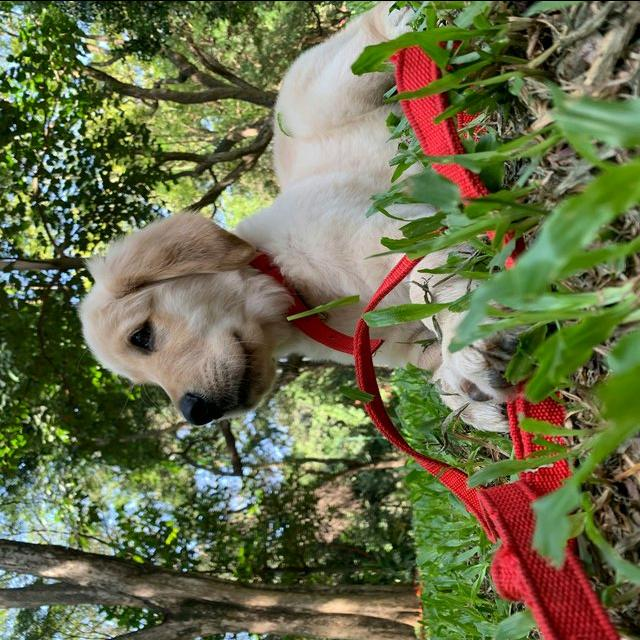retriever: (76, 1, 533, 435)
